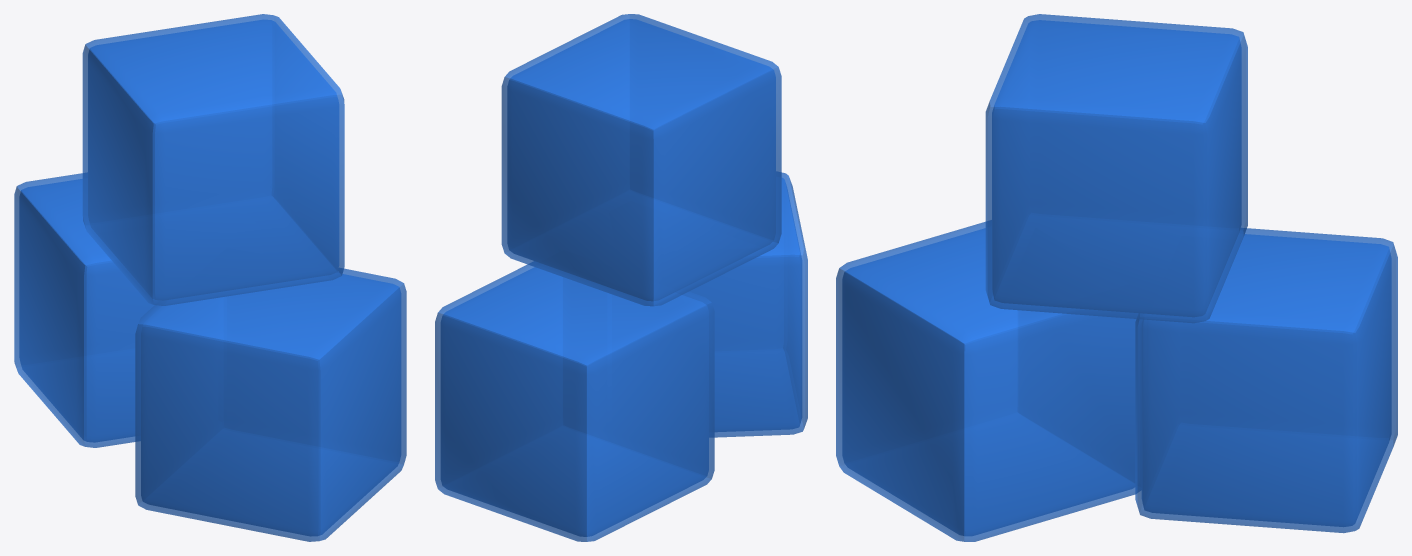
The model's file is IceCubes_3.FBX.
3 views of the same model, side by side, from view 1: azimuth 30°, elevation 25°; view 2: azimuth 150°, elevation 25°; view 3: azimuth 270°, elevation 25° (orthographic). The views are drawn at different scales.
Visible parts, largest first — view 1: IceCubes_1; view 2: IceCubes_1; view 3: IceCubes_1.
Boxes of the visible parts, x1,y1,x2,y2 form: IceCubes_1: (14, 14, 406, 541); IceCubes_1: (435, 14, 807, 541); IceCubes_1: (836, 14, 1397, 541).
Bounding box in the file's own units: 17.41 × 25.98 × 31.49.
